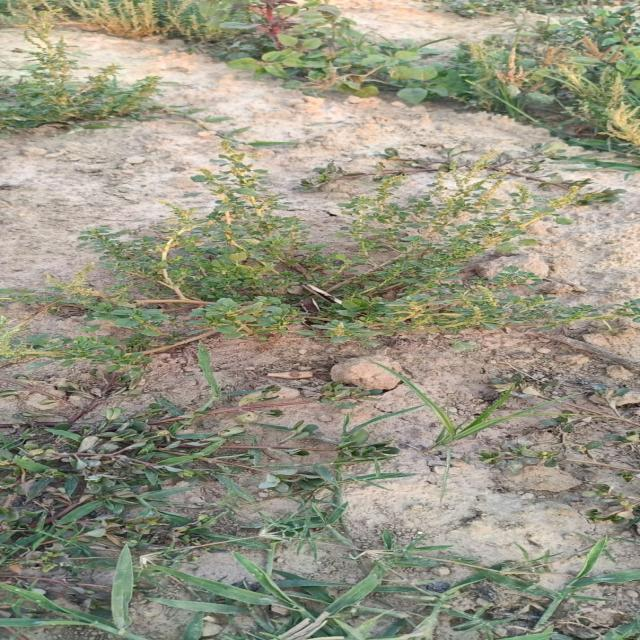weed: (6, 141, 617, 368)
